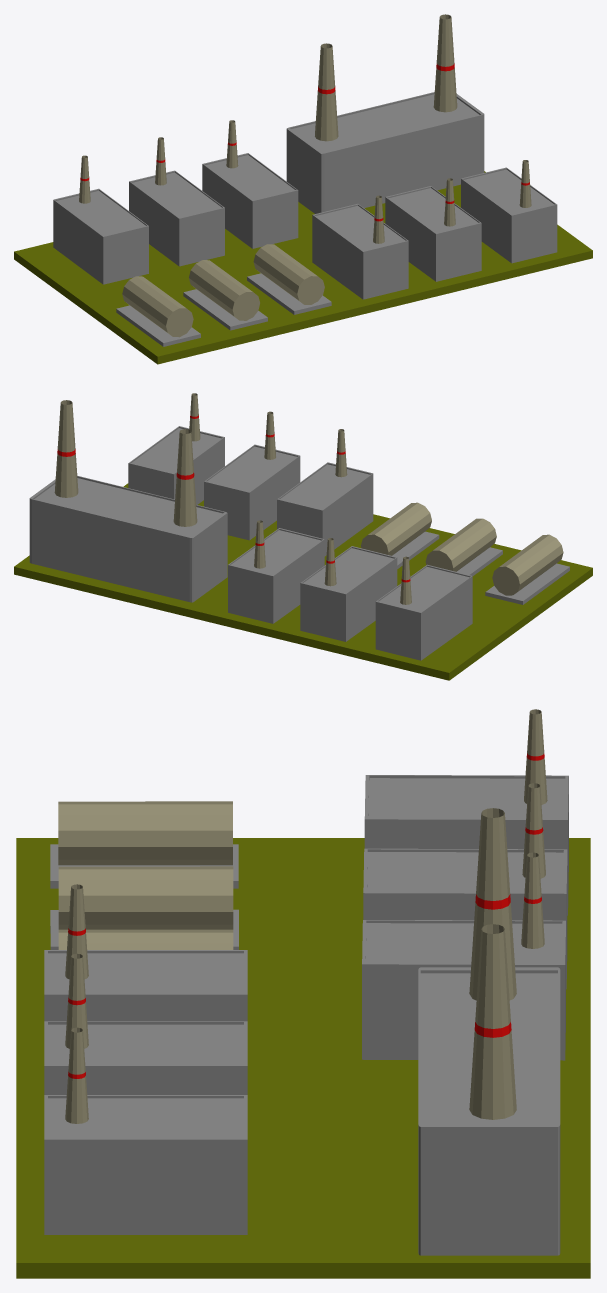
File: FACTOr.fbx
3 renders of one model, top to bottom at view 1: azimuth 30°, elevation 25°; view 2: azimuth 150°, elevation 25°; view 3: azimuth 270°, elevation 25°, orthographic. The views are drawn at different scales.
Parts seen in each view (by area): view 1: Cube, Cube.001, Cube.008, Cube.007, Cube.009, Cube.010, Cube.002, Cube.003, Cylinder.002, Cylinder.004, Cylinder.003, Cylinder.001 (+9 smaller); view 2: Cube.001, Cube, Cube.008, Cube.009, Cube.010, Cube.007, Cube.003, Cube.002, Cylinder.002, Cylinder.003, Cylinder.004, Cylinder (+10 smaller); view 3: Cube, Cube.001, Cube.002, Cube.003, Cube.007, Cube.010, Cube.008, Cylinder.002, Cube.009, Cylinder.003, Cylinder, Cylinder.001 (+8 smaller).
Part boxes in pixels (x1,y1,x2,y2): Cube: (14,171,592,364); Cube.001: (286,92,484,213); Cube.008: (53,188,148,284); Cube.007: (312,203,408,299); Cube.009: (129,170,224,266); Cube.010: (202,153,298,248); Cube.002: (461,167,557,263); Cube.003: (385,186,481,281); Cylinder.002: (122,276,193,337); Cylinder.004: (253,244,324,304); Cylinder.003: (189,260,259,320); Cylinder.001: (315,43,338,141); Cube.001: (29,476,227,602); Cube: (14,483,592,680); Cube.008: (375,564,472,660); Cube.009: (300,546,397,641); Cube.010: (228,528,324,623); Cube.007: (277,462,373,556); Cube.003: (204,444,300,540); Cube.002: (128,426,224,504); Cylinder.002: (492,534,563,595); Cylinder.003: (425,518,496,571); Cylinder.004: (361,502,431,555); Cylinder: (54,400,78,497); Cube: (16,838,590,1278); Cube.001: (418,967,560,1255); Cube.002: (44,1095,247,1234); Cube.003: (44,1021,247,1094); Cube.007: (44,950,247,1021); Cube.010: (362,920,565,1060); Cube.008: (364,775,568,915); Cylinder.002: (58,801,232,865); Cube.009: (363,848,567,989); Cylinder.003: (58,866,233,929); Cylinder: (469,924,516,1119); Cylinder.001: (469,808,516,1000).
Bounding box in the file's own units: 157 × 55.33 × 89.47.
